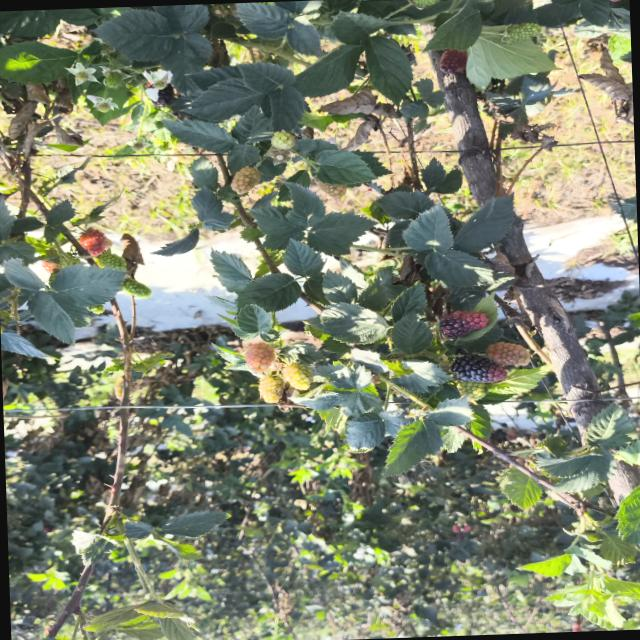marron: (451, 354, 507, 382), (440, 311, 488, 338)
naranja: (487, 341, 530, 366), (245, 342, 274, 373), (231, 166, 260, 194), (78, 229, 106, 255), (439, 49, 467, 73)
verde: (281, 363, 313, 390), (258, 376, 284, 403), (507, 22, 542, 42), (457, 381, 487, 403), (120, 277, 151, 298), (95, 250, 126, 271), (271, 131, 295, 149), (412, 0, 440, 8)
